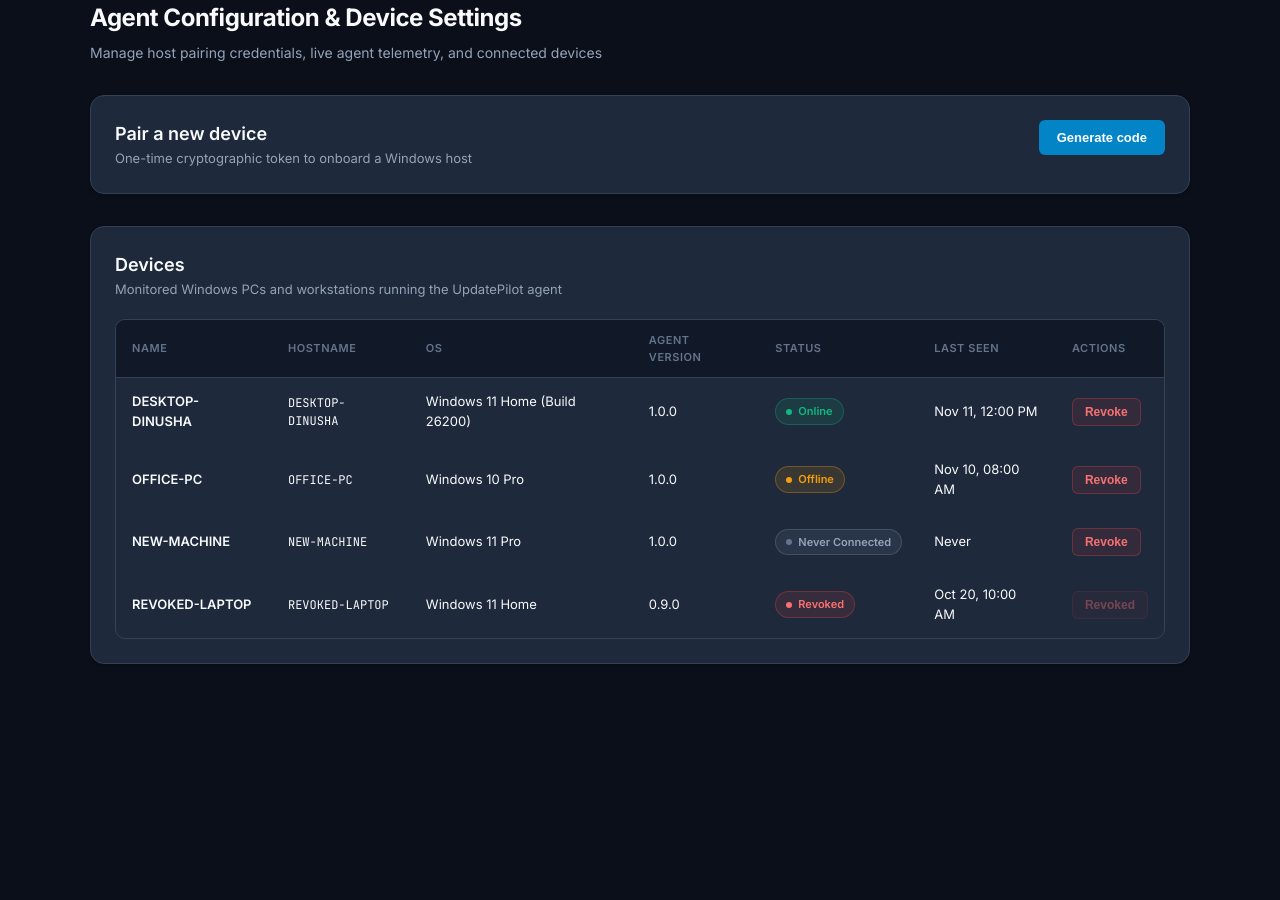
it: Settings & Agent Configuration Screen › closes dialog on Cancel or Escape key
This screenshot has width=1280, height=900.
Expected: the row with test id "device-row-dev-1" is shown, [116, 378, 1164, 446]
Click the button with aria-label "revoke device desktop-dinusha".
click(1106, 412)  # box [1072, 398, 1141, 426]
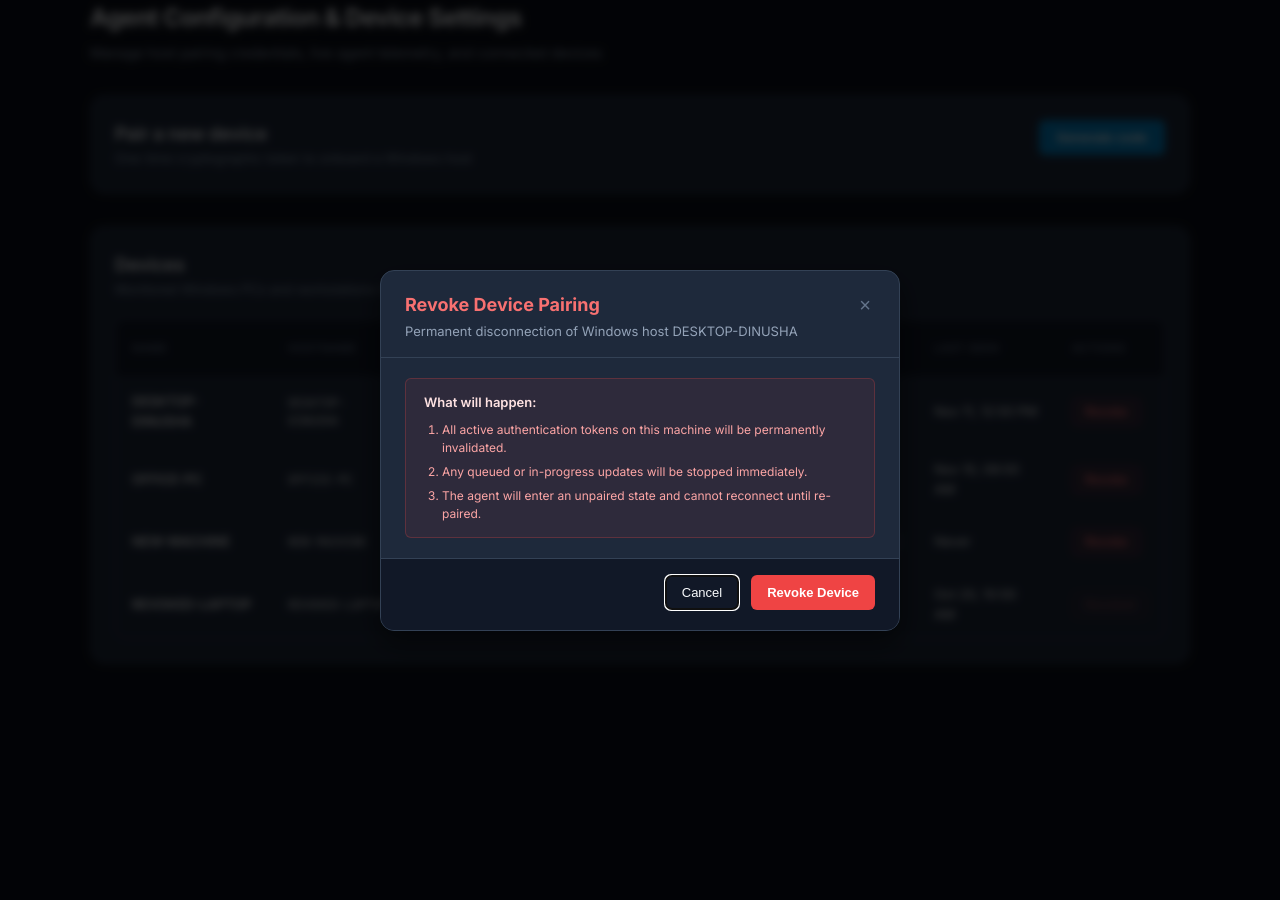
Expected: the dialog is shown, [380, 270, 900, 630]
Note: Cancel closes dialog
Click the button "Cancel".
click(702, 592)  # box [665, 574, 739, 610]
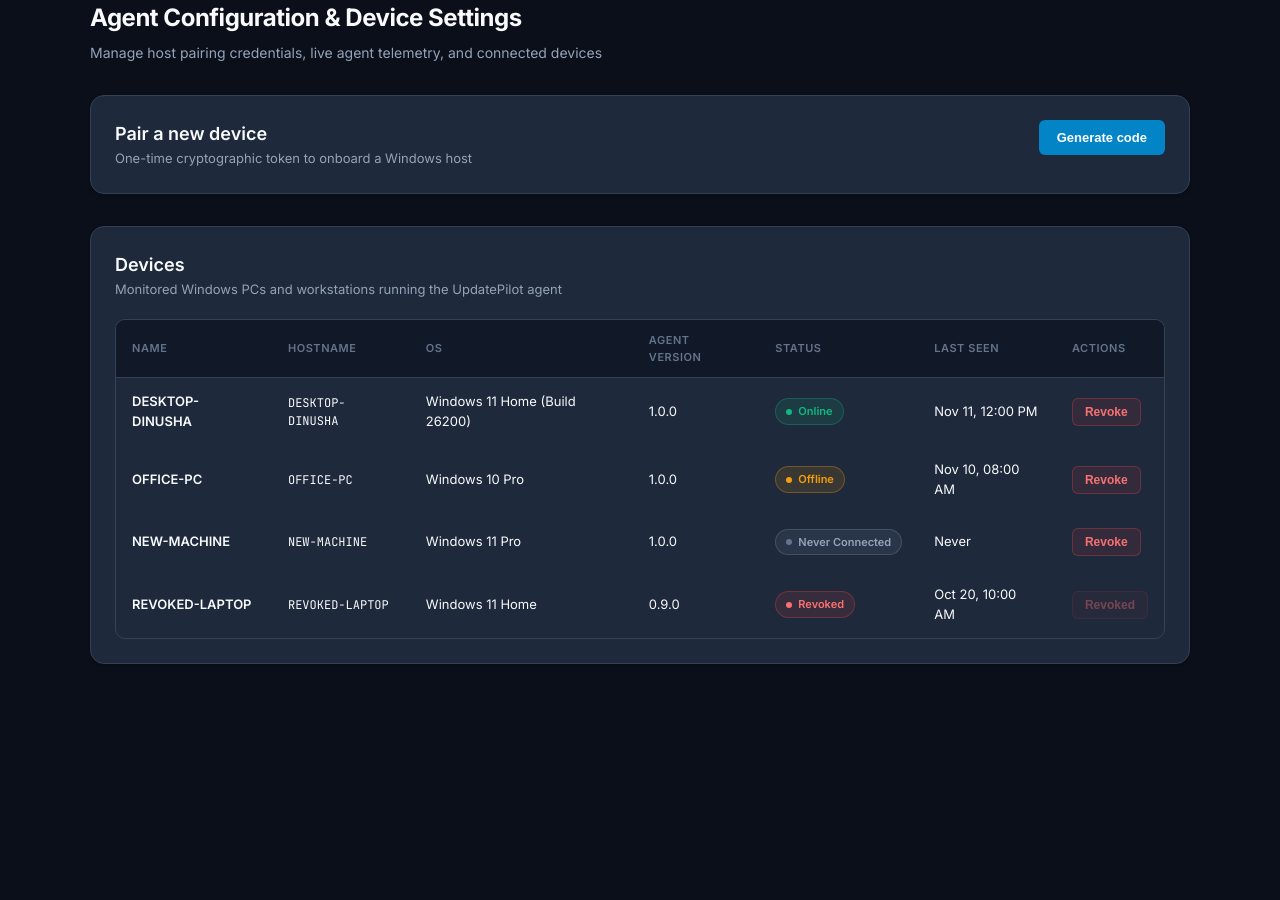
Expected: the dialog is gone
Note: Reopen and test Escape key
Click the button with aria-label "revoke device desktop-dinusha".
click(1106, 412)  # box [1072, 398, 1141, 426]
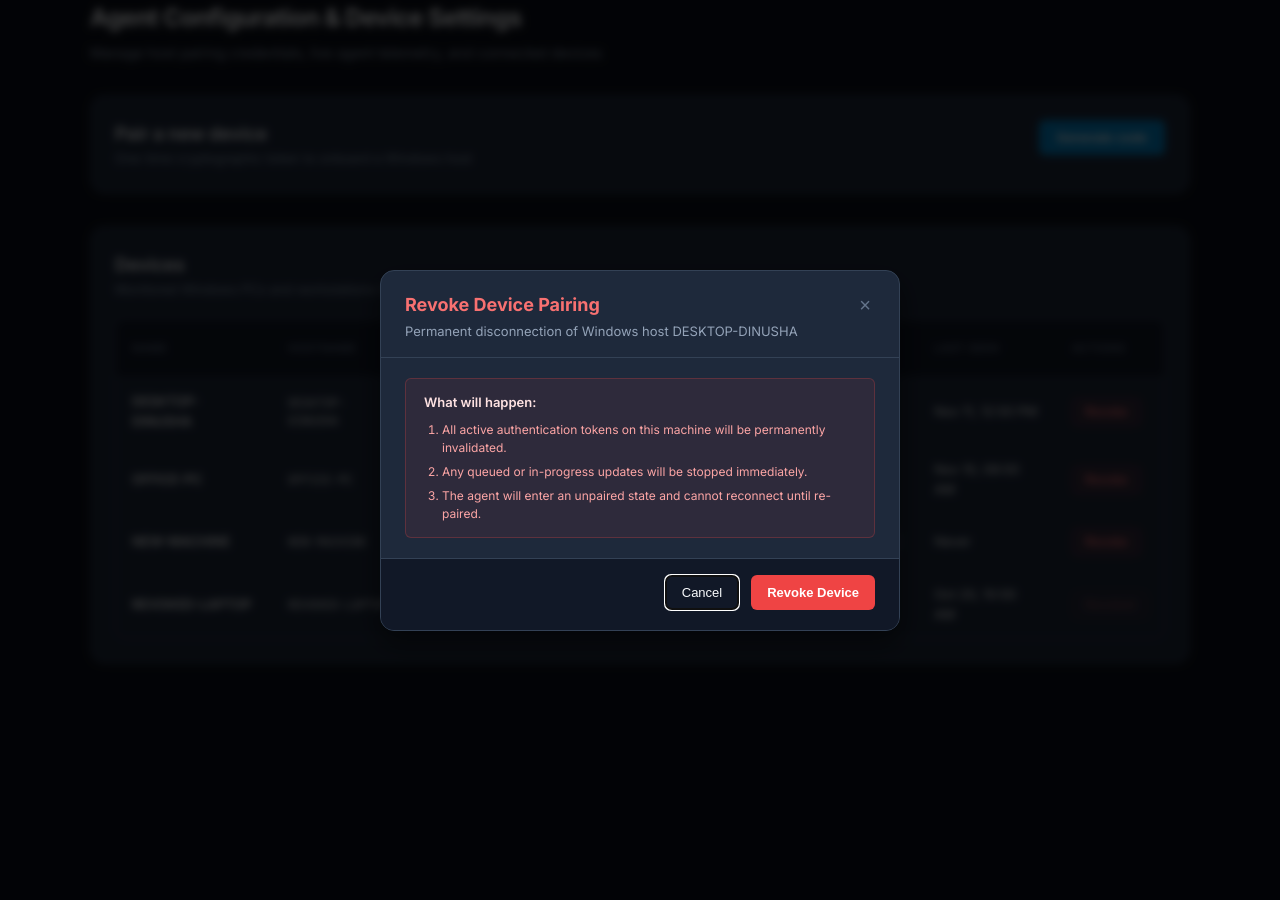
Expected: the dialog is shown, [380, 270, 900, 630]
Press Escape
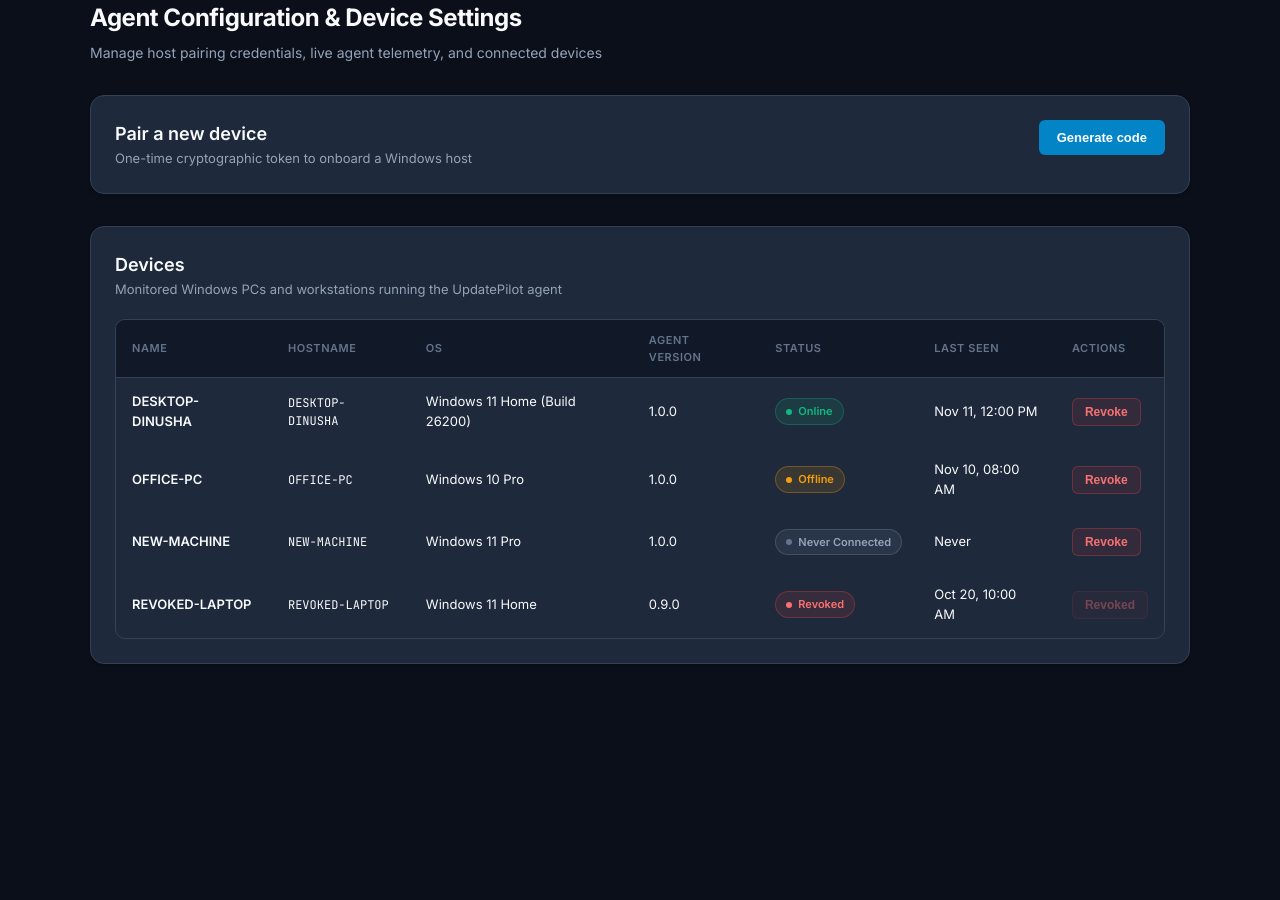
Expected: the dialog is gone
